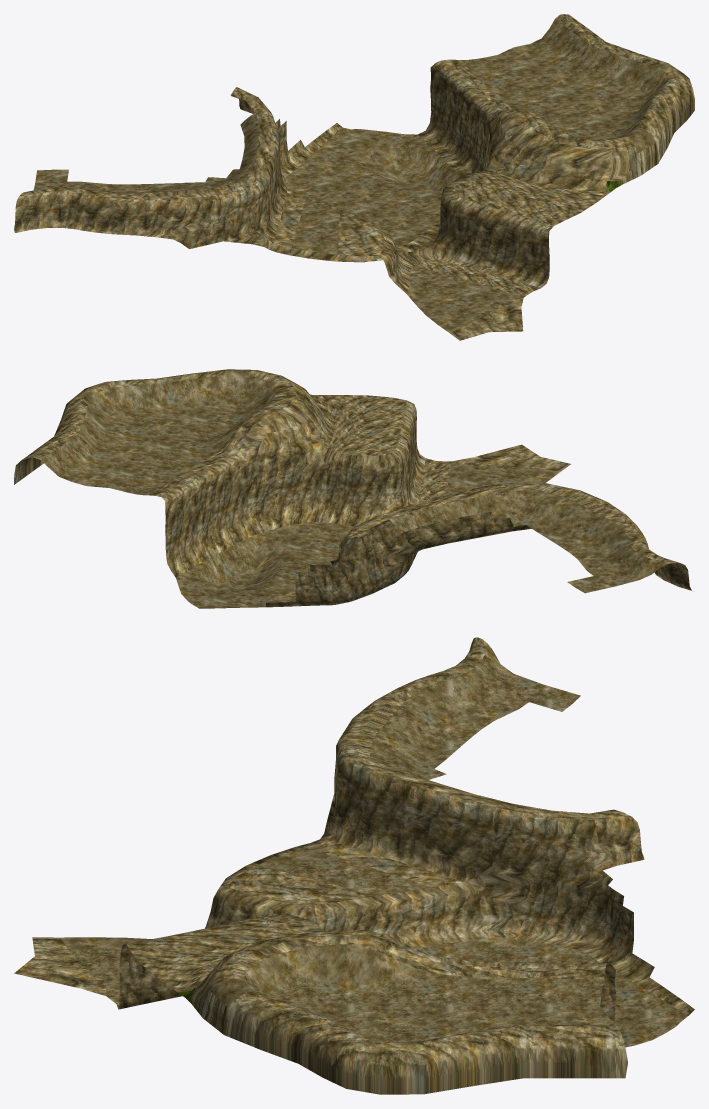
File: RM_PLAYSURFACE_FINAL_OBJECT05.fbx
3 views of the same model, one above another, from view 1: azimuth 30°, elevation 25°; view 2: azimuth 150°, elevation 25°; view 3: azimuth 270°, elevation 25° (orthographic). The views are drawn at different scales.
Visible parts, largest first — view 1: RM_PLAYSURFACE_FINAL_OBJECT05; view 2: RM_PLAYSURFACE_FINAL_OBJECT05; view 3: RM_PLAYSURFACE_FINAL_OBJECT05.
Boxes of the visible parts, x1,y1,x2,y2 form: RM_PLAYSURFACE_FINAL_OBJECT05: (14,14,694,340); RM_PLAYSURFACE_FINAL_OBJECT05: (14,369,691,608); RM_PLAYSURFACE_FINAL_OBJECT05: (14,637,694,1094).
Size of the model in its own units: 698147 by 111765 by 475925.
6 materials, 6 textured.
